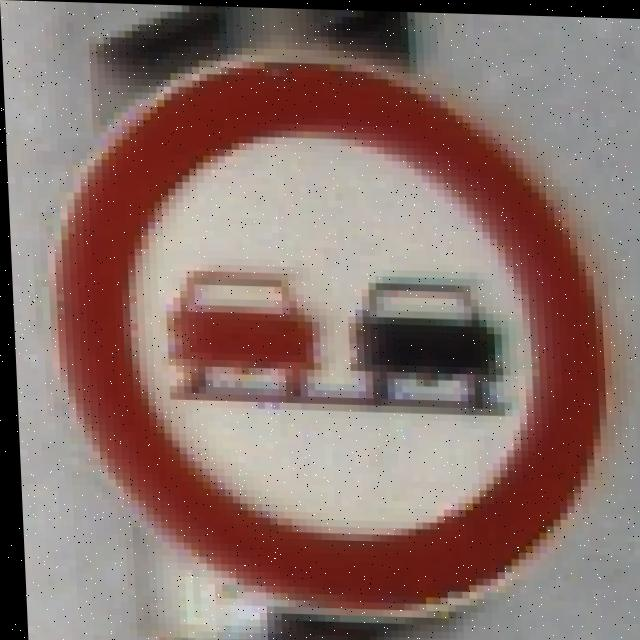no_overtaking: (50, 78, 594, 599)
